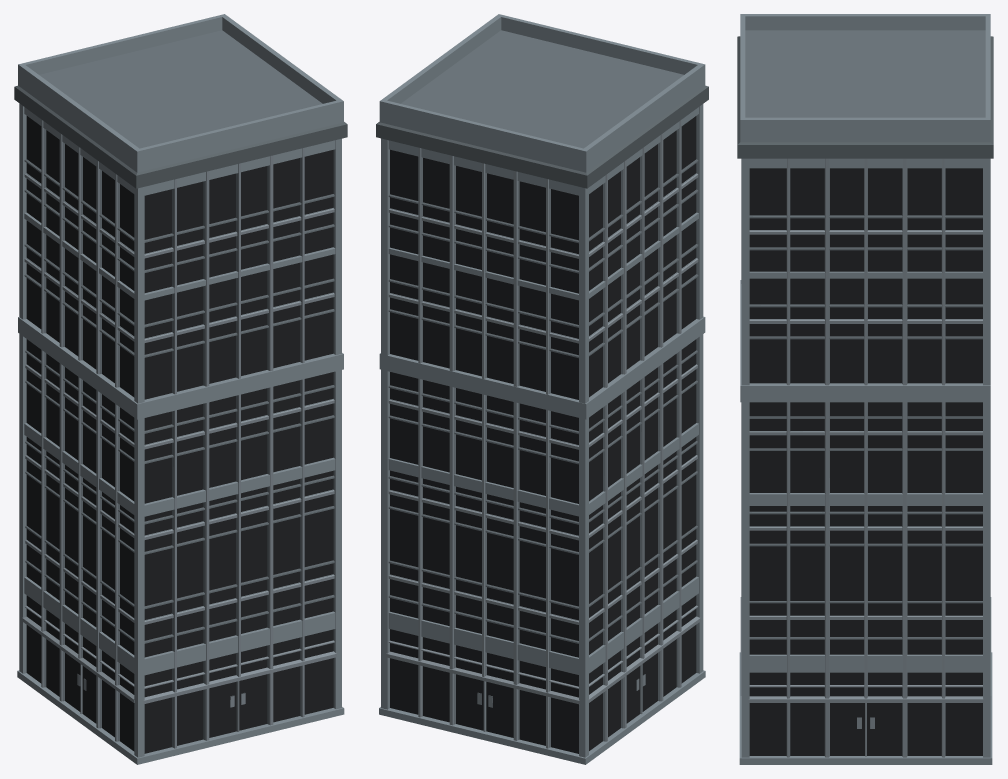
File: SM_Gen_Bld_Background_06.glb
3 views of the same model, side by side, from view 1: azimuth 30°, elevation 25°; view 2: azimuth 150°, elevation 25°; view 3: azimuth 270°, elevation 25° (orthographic). The views are drawn at different scales.
Visible parts, largest first — view 1: SM_Gen_Bld_Background_06; view 2: SM_Gen_Bld_Background_06; view 3: SM_Gen_Bld_Background_06.
Boxes of the visible parts, left/top/right/bottom form: SM_Gen_Bld_Background_06: left=14, top=14, right=347, bottom=764; SM_Gen_Bld_Background_06: left=376, top=14, right=708, bottom=764; SM_Gen_Bld_Background_06: left=737, top=14, right=993, bottom=764.
Bounding box in the file's own units: 8.27 × 22.93 × 8.25.
2 materials, 2 textured.
